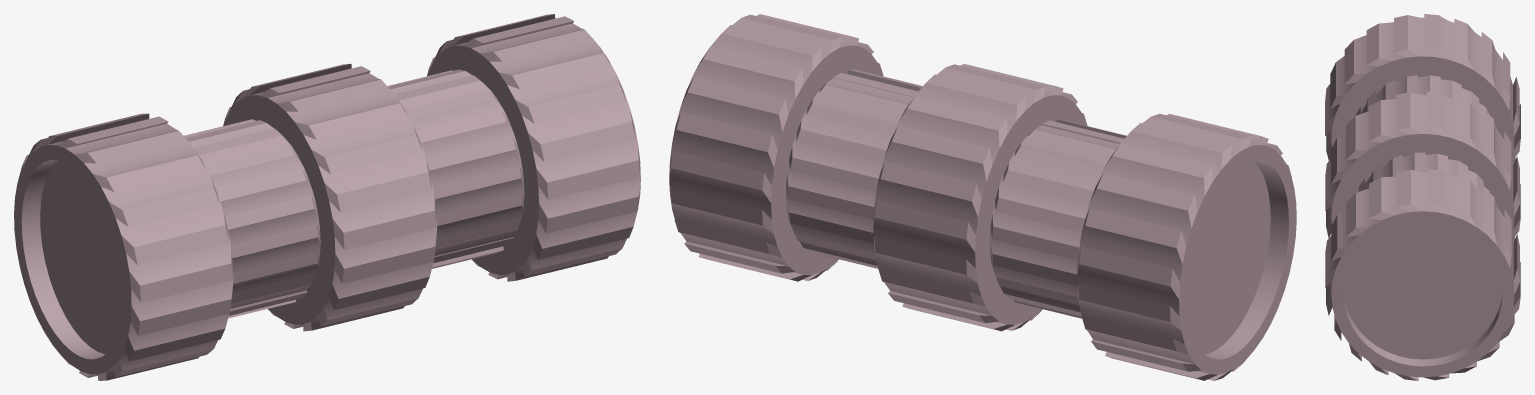
File: Cylinder_004_geometry-panic-factory_001.fbx
The picture shows the model from 3 angles, left to right: view 1: azimuth 30°, elevation 25°; view 2: azimuth 150°, elevation 25°; view 3: azimuth 270°, elevation 25°; orthographic projection. The views are drawn at different scales.
Parts seen in each view (by area): view 1: Cylinder.004.geometry-panic-factory.001; view 2: Cylinder.004.geometry-panic-factory.001; view 3: Cylinder.004.geometry-panic-factory.001.
Part boxes in pixels (<box>): Cylinder.004.geometry-panic-factory.001: <box>14,14,640,380</box>; Cylinder.004.geometry-panic-factory.001: <box>669,14,1296,380</box>; Cylinder.004.geometry-panic-factory.001: <box>1325,14,1520,380</box>.
Bounding box in the file's own units: 2.34 × 0.9998 × 0.9998.
